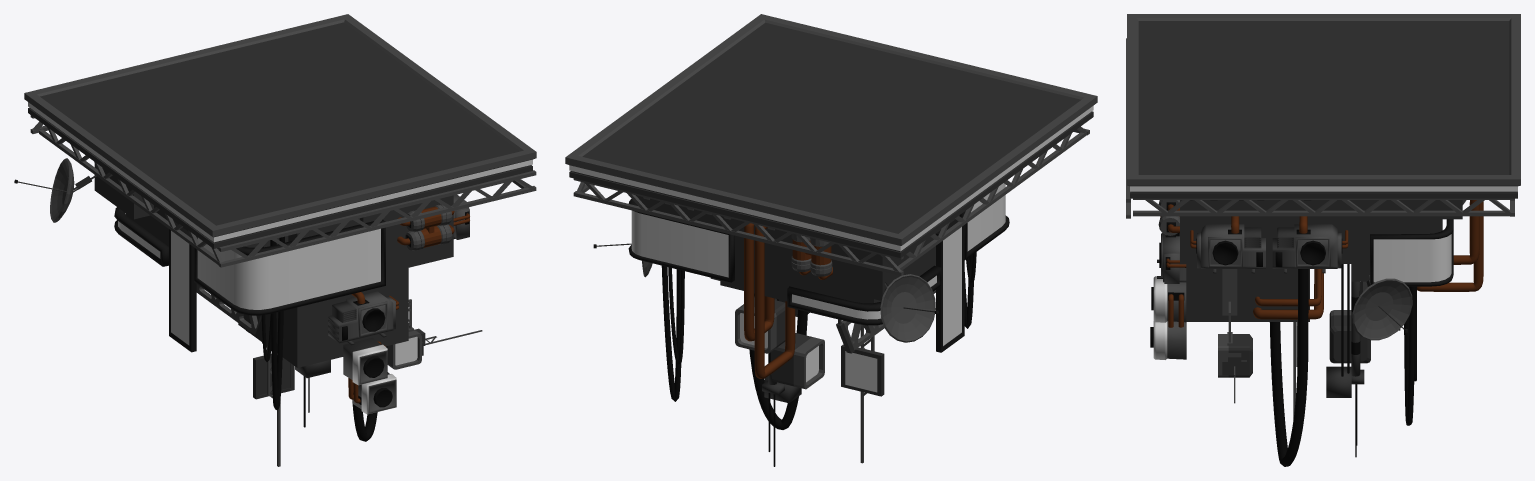
File: Platform_4x4_Cube.obj
The picture shows the model from 3 angles, left to right: view 1: azimuth 30°, elevation 25°; view 2: azimuth 150°, elevation 25°; view 3: azimuth 270°, elevation 25°; orthographic projection. The views are drawn at different scales.
Visible parts, largest first — view 1: Platform_4x4_Cube.099; view 2: Platform_4x4_Cube.099; view 3: Platform_4x4_Cube.099.
Boxes of the visible parts, box(x1,y1,x2,y2) form: Platform_4x4_Cube.099: box(14, 14, 536, 466); Platform_4x4_Cube.099: box(565, 14, 1097, 466); Platform_4x4_Cube.099: box(1126, 14, 1520, 466).
Bounding box in the file's own units: 4.47 × 3.76 × 3.9.
